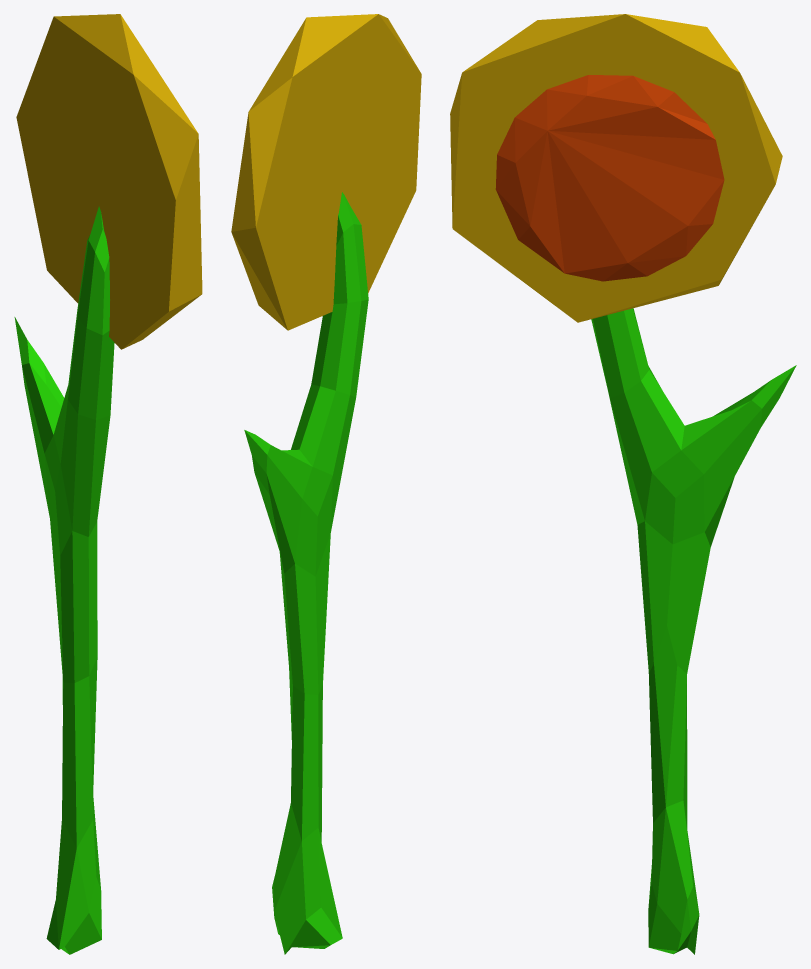
File: Flower_0.fbx
3 views of the same model, side by side, from view 1: azimuth 30°, elevation 25°; view 2: azimuth 150°, elevation 25°; view 3: azimuth 270°, elevation 25° (orthographic). The views are drawn at different scales.
Parts seen in each view (by area): view 1: Cylinder, Branch; view 2: Cylinder, Branch; view 3: Cylinder, Branch, Cylinder.001.
Boxes of the visible parts, left/top/right/bottom form: Cylinder: left=16, top=14, right=202, bottom=349; Branch: left=14, top=206, right=114, bottom=954; Cylinder: left=231, top=14, right=421, bottom=330; Branch: left=244, top=192, right=368, bottom=954; Cylinder: left=450, top=14, right=782, bottom=322; Branch: left=591, top=308, right=796, bottom=954; Cylinder.001: left=495, top=75, right=724, bottom=281.
Bounding box in the file's own units: 5.88 × 74.52 × 24.68.
